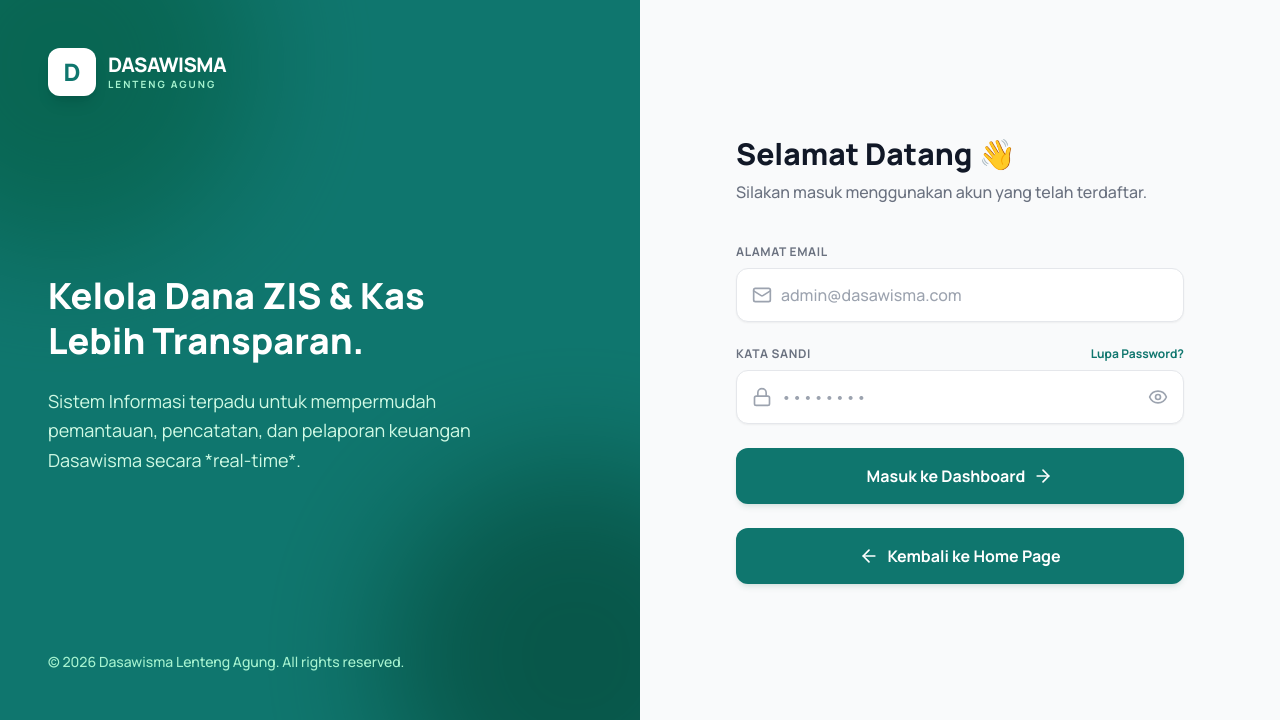
Test case: Login › menampilkan pesan error jika login gagal
This screenshot has width=1280, height=720.
Type "a@b.com" into the field with placeholder "admin@dasawisma.com" at (960, 295), box [736,268,1184,322]
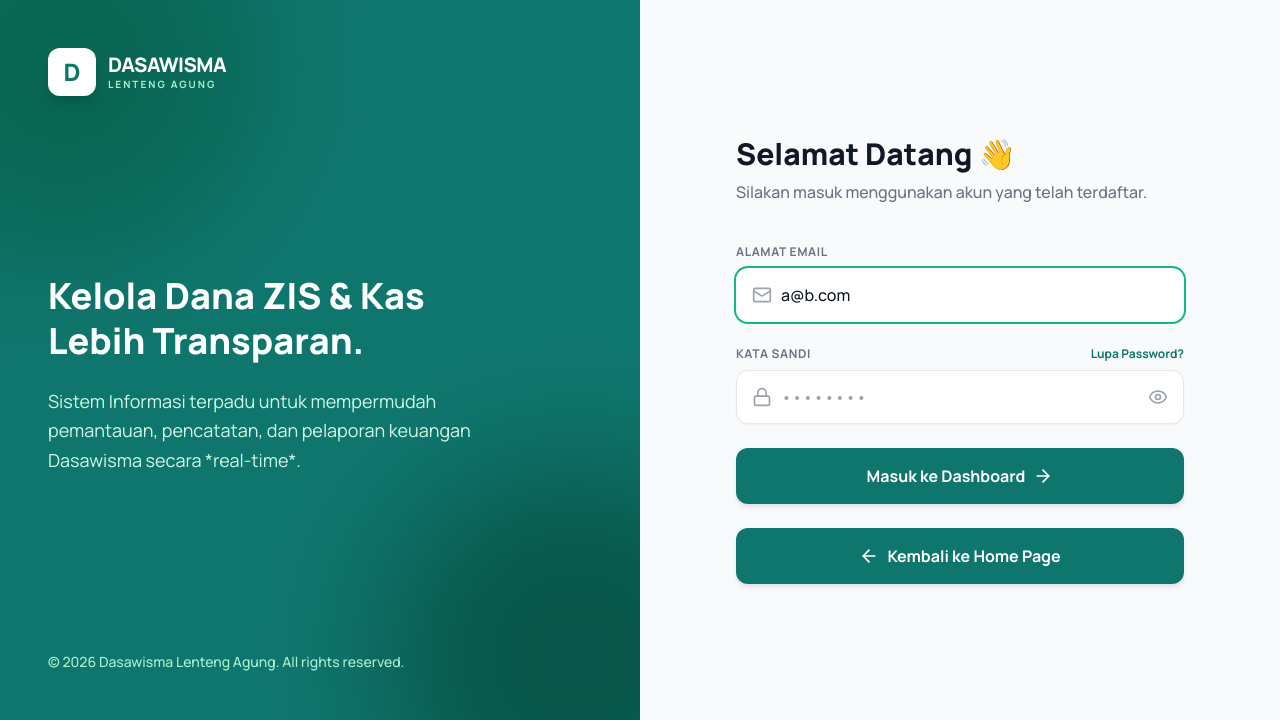
Type "rahasia" into the password field with placeholder "••••••••" at (960, 397), box [736,370,1184,424]
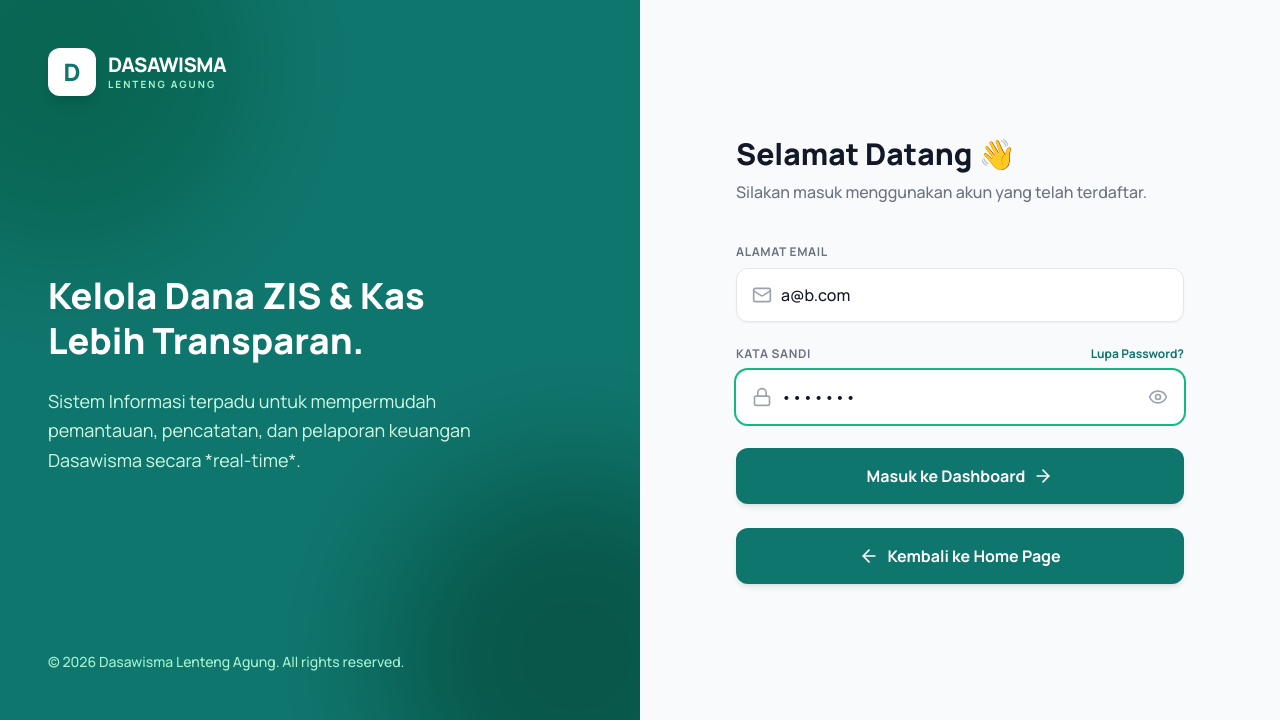
Click the button "Masuk ke Dashboard" at (960, 476), box [736,448,1184,504]
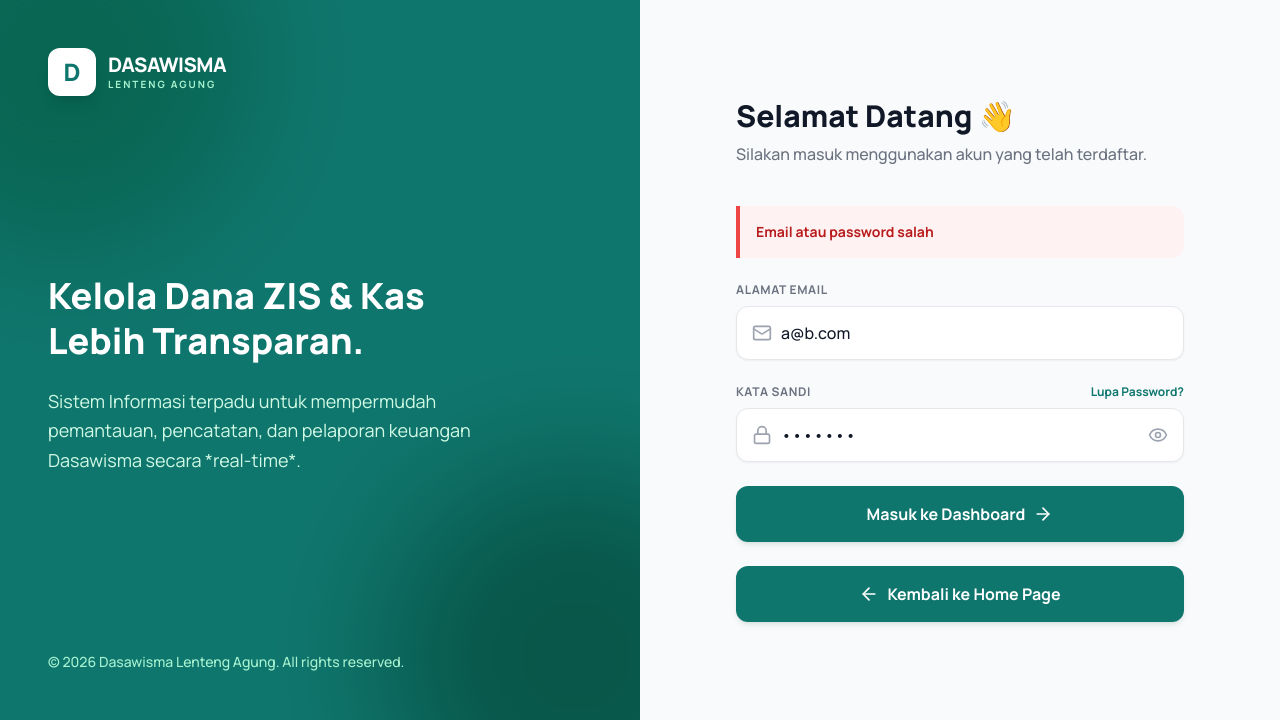
Check: the text "Email atau password salah" is shown, box [756,222,934,241]
